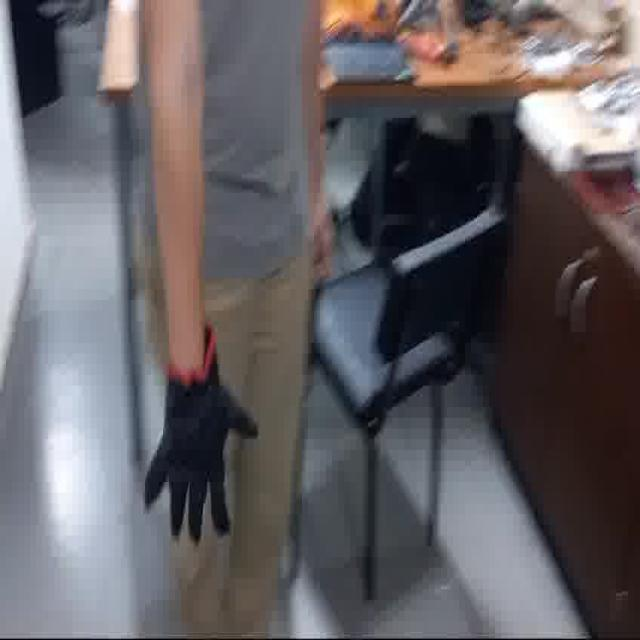Gloves: (125, 329, 267, 532)
